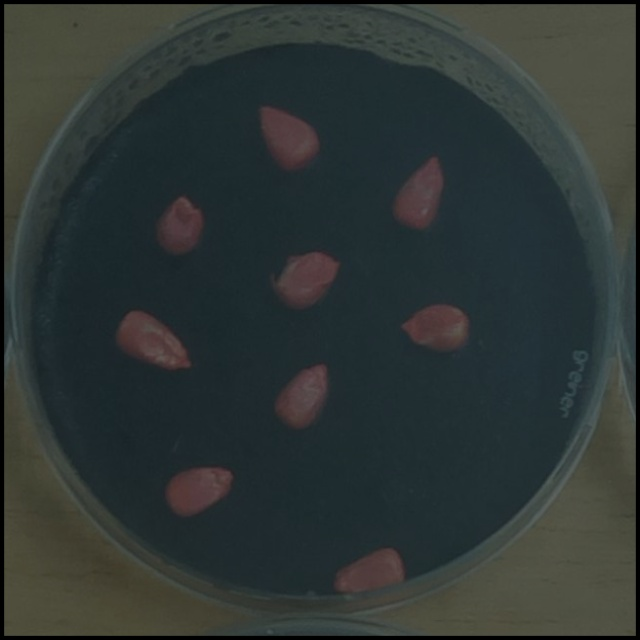Zea mays: (105, 301, 201, 379), (261, 244, 348, 320), (250, 99, 326, 180), (384, 148, 451, 239), (266, 356, 338, 438), (158, 458, 242, 528), (392, 296, 476, 359), (323, 542, 409, 602), (148, 188, 211, 263)
